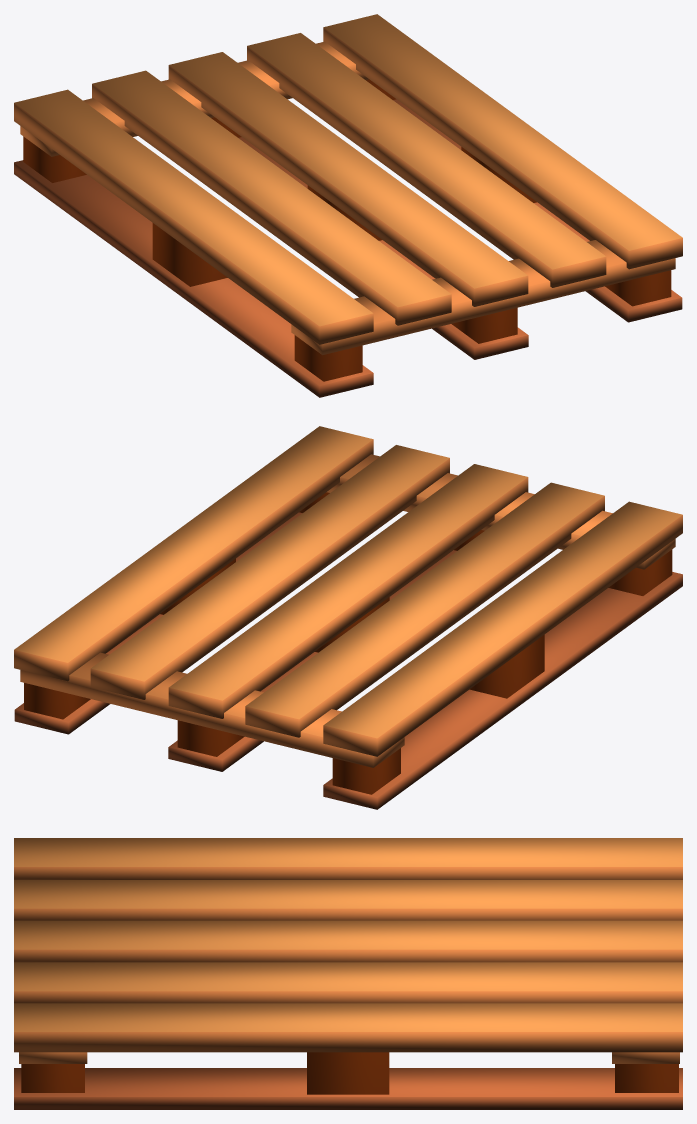
The model's file is Pallet.fbx.
The picture shows the model from 3 angles, top to bottom: view 1: azimuth 30°, elevation 25°; view 2: azimuth 150°, elevation 25°; view 3: azimuth 270°, elevation 25°; orthographic projection. The views are drawn at different scales.
Parts seen in each view (by area): view 1: Pallet; view 2: Pallet; view 3: Pallet.
Part boxes in pixels (x1,y1,x2,y2): Pallet: (14,14,682,397); Pallet: (14,426,682,809); Pallet: (14,838,682,1109).
Size of the model in its own units: 106 by 19.89 by 154.
